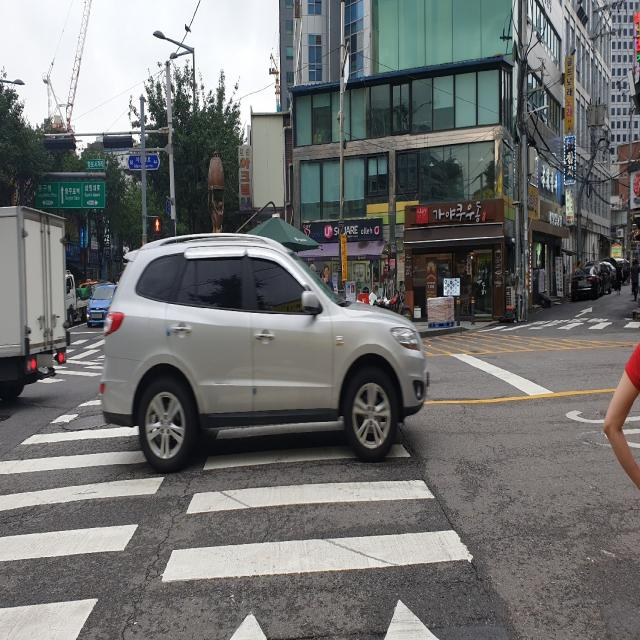빨간불: (150, 213, 164, 247)
횡단보도: (0, 395, 475, 639)
